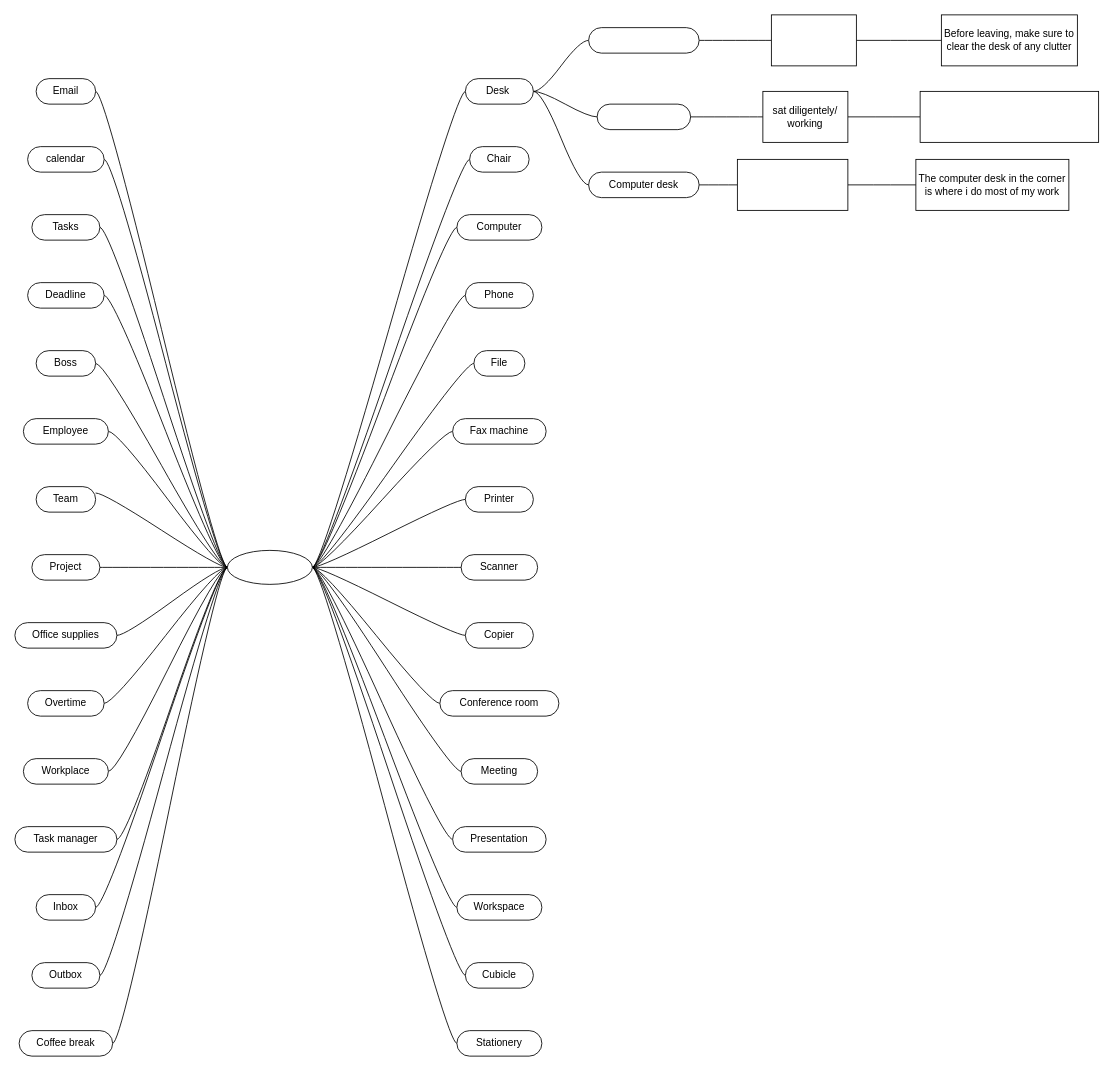
Image size: 1114x1071. Some labels were removed from this diagram. Each missing label, with the centre of its shape:
"Clear the desk" goes at (643,40).
"clear/clutter" goes at (813,40).
"in the corner/ do most of my work" goes at (792,184).
"OFFICE" goes at (269,567).
"Office desk" goes at (643,116).
"She sat diligently at her office desk, working on the project" goes at (1009,116).
